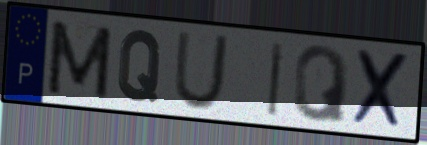I: (265, 39, 288, 119)
M: (44, 17, 115, 102)
Q: (291, 43, 352, 126), (115, 27, 166, 105)
U: (170, 29, 232, 113)
X: (350, 46, 413, 133)
